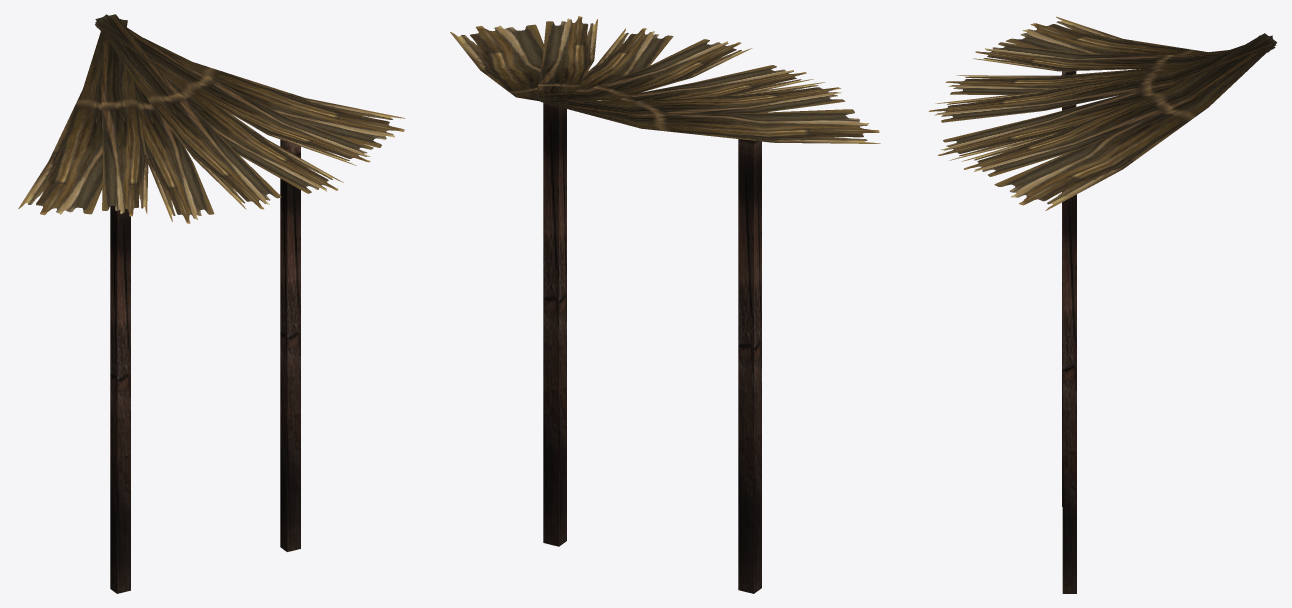
The picture shows the model from 3 angles, left to right: view 1: azimuth 30°, elevation 25°; view 2: azimuth 150°, elevation 25°; view 3: azimuth 270°, elevation 25°; orthographic projection. The views are drawn at different scales.
Visible parts, largest first — view 1: wj09; view 2: wj09; view 3: wj09.
Part boxes in pixels (box(x1,y1,x2,y2)): wj09: box(18, 14, 405, 593); wj09: box(450, 16, 880, 593); wj09: box(929, 16, 1276, 593).
Size of the model in its own units: 572 by 662 by 422.
